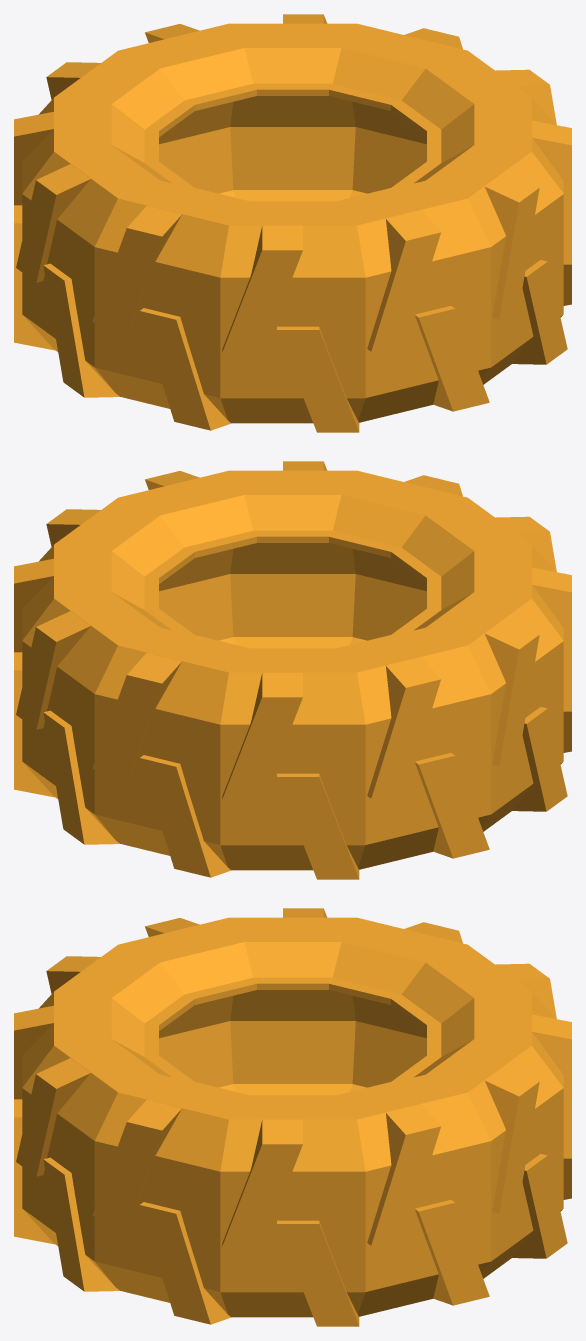
File: SM_Tractor_Tire_Small.fbx
3 renders of one model, top to bottom at view 1: azimuth 30°, elevation 25°; view 2: azimuth 150°, elevation 25°; view 3: azimuth 270°, elevation 25°, orthographic.
Parts seen in each view (by area): view 1: tractor-tire-small; view 2: tractor-tire-small; view 3: tractor-tire-small.
Part boxes in pixels (x1,y1,x2,y2): tractor-tire-small: (14,14,571,432); tractor-tire-small: (14,461,571,879); tractor-tire-small: (14,908,571,1326).
Size of the model in its own units: 1.52 by 0.5939 by 1.52.
